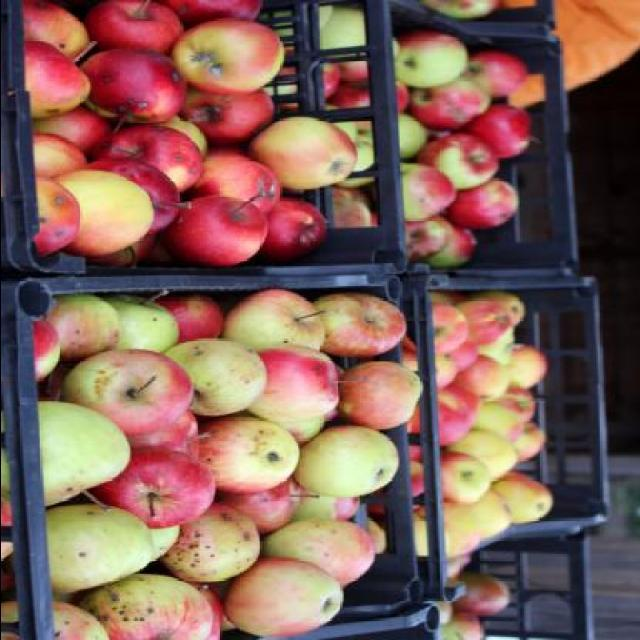Apple pie: (2, 286, 426, 638), (21, 0, 357, 266), (259, 5, 527, 267), (366, 291, 548, 558), (60, 346, 194, 437), (457, 572, 508, 616), (422, 0, 493, 18), (439, 612, 484, 640), (433, 600, 453, 623)
